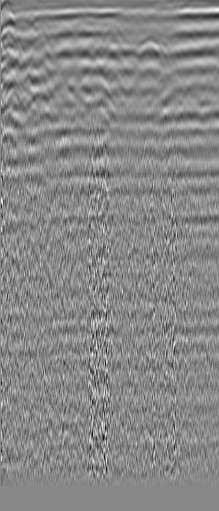오수: (22, 17, 43, 39)
우수: (178, 19, 198, 39)
